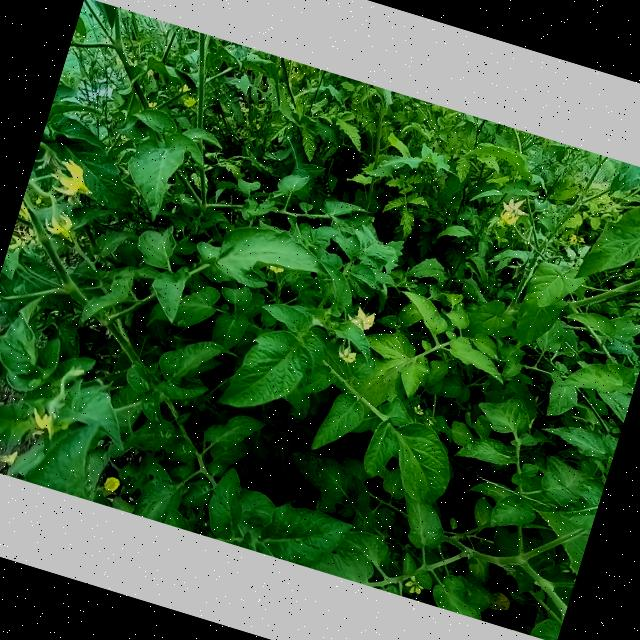Flowers: (46, 155, 100, 204), (27, 406, 72, 442), (39, 206, 80, 243), (498, 194, 528, 229), (346, 304, 380, 334), (401, 573, 426, 597), (334, 344, 360, 366), (100, 473, 122, 493), (569, 232, 587, 246), (266, 264, 286, 276), (183, 94, 197, 110), (179, 83, 191, 94)
